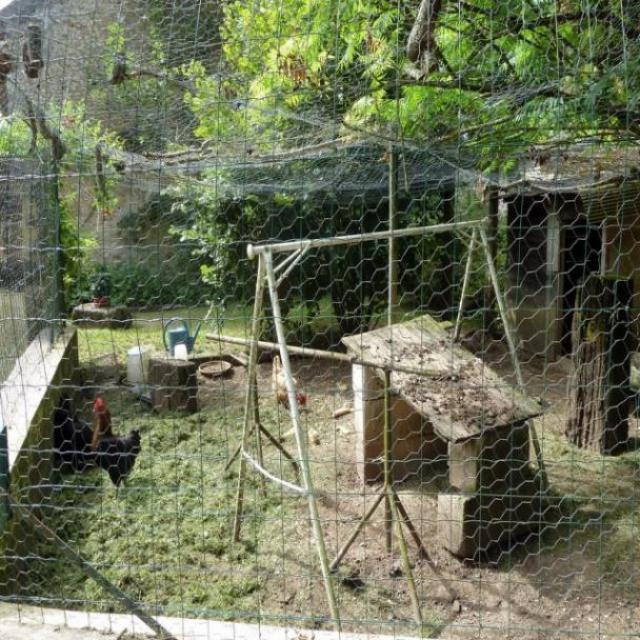Chicken: (93, 395, 140, 493)
